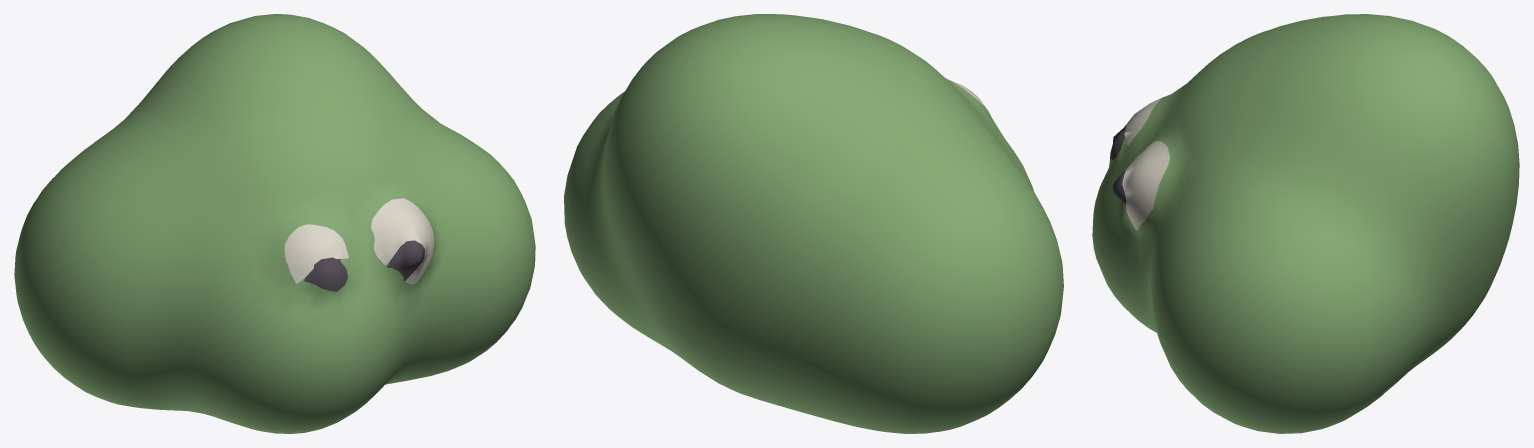
The model's file is spybush.glb.
The picture shows the model from 3 angles, left to right: view 1: azimuth 30°, elevation 25°; view 2: azimuth 150°, elevation 25°; view 3: azimuth 270°, elevation 25°; orthographic projection. The views are drawn at different scales.
Visible parts, largest first — view 1: spybush; view 2: spybush; view 3: spybush.
Part boxes in pixels (x1,y1,x2,y2): spybush: (14, 14, 535, 433); spybush: (564, 14, 1063, 433); spybush: (1092, 14, 1519, 433).
Size of the model in its own units: 53.93 by 38.3 by 41.85.
